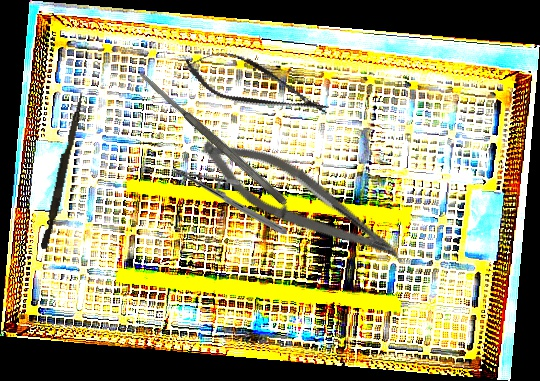Micro Scissor: (188, 123, 418, 276), (178, 38, 336, 133)
Needle Holder: (172, 168, 287, 234)
Pusher: (40, 90, 85, 251)
Spatula Surgical: (135, 67, 290, 208)
